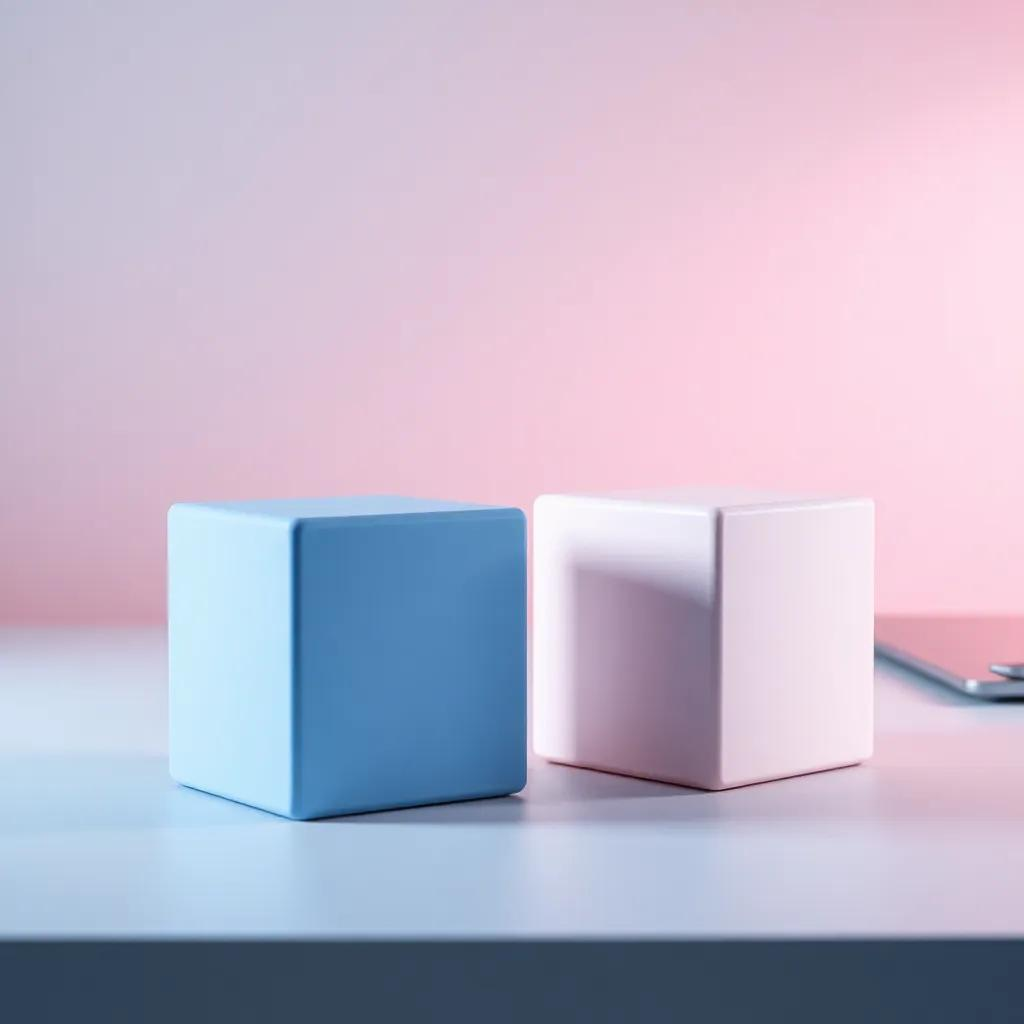cube: (165, 493, 528, 820), (530, 486, 875, 792)
